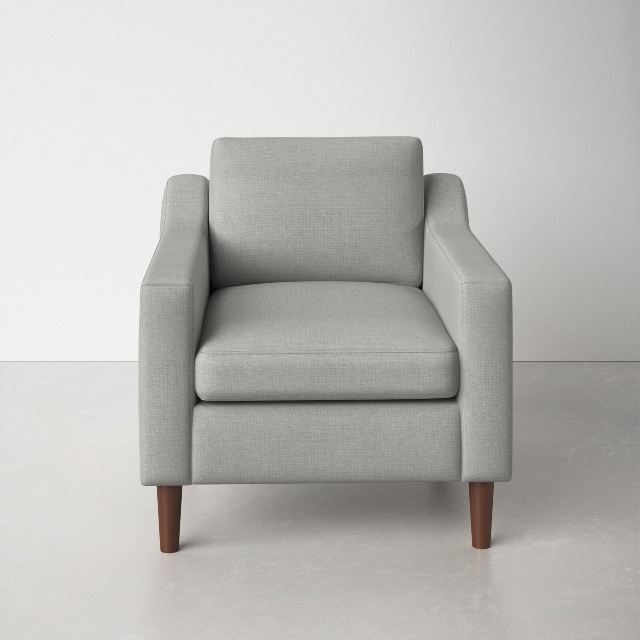obstacle: (140, 137, 512, 552)
